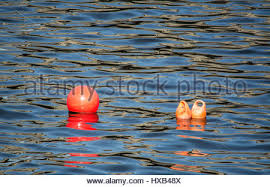buoy: (67, 82, 100, 112), (193, 105, 206, 119), (175, 107, 190, 119)
